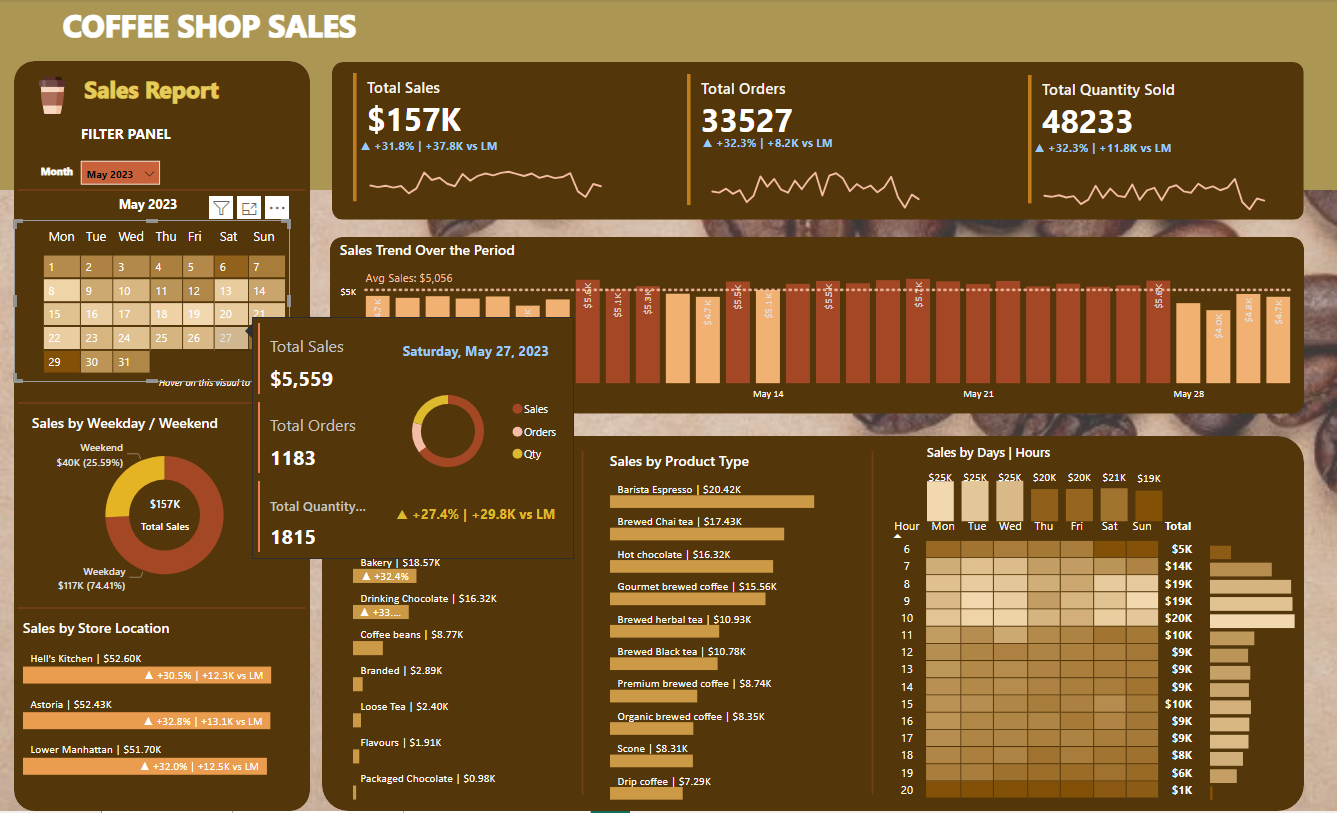

The dashboard page shown, as its layout file describes it:
{"tool":"powerbi","page":{"name":"Coffe Shop sales","canvas":[1400,850],"ordinal":0},"visuals":[{"type":"shape","box":[0,0,1399.6,199.9],"z":0},{"type":"shape","box":[14.7,64.9,309.9,785.1],"z":1000},{"type":"shape","box":[347.5,65.9,1017.5,165.4],"z":2000},{"type":"textbox","box":[60.7,0,337.1,55.5],"z":3000},{"type":"cardVisual","fields":{"Data":["Transactions.Total Sales"]},"box":[364.3,71.7,279.5,145.5],"z":4000,"group":"g1"},{"type":"cardVisual","fields":{"Data":["Transactions.Total Orders"]},"box":[713.9,72.8,286.8,148.6],"z":4000,"group":"g2"},{"type":"cardVisual","fields":{"Data":["Transactions.Total Quantity Sold"]},"box":[1070.9,74.3,268,145.5],"z":4000,"group":"g3"},{"type":"slicer","fields":{"Values":["Date Table.Month Year"]},"box":[79.6,164.3,93.2,35.6],"z":4000},{"type":"group","id":"g1","title":"Group 1","box":[364.3,71.7,279.5,156],"z":5000},{"type":"group","id":"g2","title":"Group 1","box":[713.9,72.8,286.8,152.2],"z":6000},{"type":"lineChart","fields":{"Category":["Date Table.Date.Variation.Date Hierarchy.Year","Date Table.Date.Variation.Date Hierarchy.Quarter","Date Table.Date.Variation.Date Hierarchy.Month","Date Table.Date.Variation.Date Hierarchy.Day"],"Y":["Transactions.Total Orders"]},"box":[731.1,142.3,246,82.7],"z":6000,"group":"g2"},{"type":"lineChart","fields":{"Y":["Transactions.Total Sales"],"Category":["Date Table.Date.Variation.Date Hierarchy.Year","Date Table.Date.Variation.Date Hierarchy.Quarter","Date Table.Date.Variation.Date Hierarchy.Month","Date Table.Date.Variation.Date Hierarchy.Day"]},"box":[372.4,145,271.4,82.7],"z":6000,"group":"g1"},{"type":"lineChart","fields":{"Category":["Date Table.Date.Variation.Date Hierarchy.Year","Date Table.Date.Variation.Date Hierarchy.Quarter","Date Table.Date.Variation.Date Hierarchy.Month","Date Table.Date.Variation.Date Hierarchy.Day"],"Y":["Transactions.Total Quantity Sold"]},"box":[1078.7,147.6,260.2,82.7],"z":6000,"group":"g3"},{"type":"group","id":"g3","title":"Group 1","box":[1070.9,74.3,268,156],"z":7000},{"type":"pivotTable","fields":{"Columns":["Date Table.Day Name"],"Values":["Min(Date Table.Day Number)"],"Rows":["Date Table.Week Number"]},"box":[14.7,231.3,288.9,169.6],"z":8000},{"type":"card","fields":{"Values":["Min(Date Table.Month Year)"]},"box":[98.4,199.9,113.1,34.5],"z":9000},{"type":"card","fields":{"Values":["Transactions.Foot Note"]},"box":[159.1,388.4,157,24.1],"z":10000},{"type":"shape","box":[18.8,412.4,301.5,20.9],"z":11000},{"type":"shape","box":[18.8,189.5,301.5,20.9],"z":12000},{"type":"donutChart","title":"Sales by Weekday / Weekend","fields":{"Category":["Date Table.Weekday / Weekend"],"Y":["Transactions.Total Sales"]},"box":[28.3,433.4,287.9,193.7],"z":13000},{"type":"card","fields":{"Values":["Transactions.Total Sales"]},"box":[126.7,509.8,92.1,56.5],"z":14000},{"type":"shape","box":[18.8,627,301.5,20.9],"z":15000},{"type":"clusteredBarChart","title":"Sales by Store Location","fields":{"Category":["Transactions.store_location"],"Y":["Transactions.Placeholder","Transactions.Total Sales"]},"box":[18.8,648,297.3,171.7],"z":16000},{"type":"shape","box":[345.4,249.1,1019.6,185],"z":17000},{"type":"columnChart","title":"Sales Trend Over the Period","fields":{"Category":["Transactions.transaction_date"],"Y":["Transactions.Total Sales"]},"box":[350.7,252.3,1009.1,176.9],"z":18000},{"type":"shape","box":[337.1,457.5,1028,392.5],"z":19000},{"type":"clusteredBarChart","title":"Sales by Product Category","fields":{"Y":["Transactions.Placeholder","Transactions.Total Sales"],"Category":["Transactions.product_category"]},"box":[364.3,473.2,257.5,370.6],"z":20000},{"type":"shape","box":[597.7,473.2,24.1,360.1],"z":21000},{"type":"clusteredBarChart","title":"Sales by Product Type","fields":{"Y":["Transactions.Placeholder","Transactions.Total Sales"],"Category":["Transactions.product_type"]},"box":[633.3,473.2,257.5,370.6],"z":22000},{"type":"shape","box":[901.3,473.2,24.1,360.1],"z":23000},{"type":"pivotTable","fields":{"Rows":["Transactions.Hour"],"Columns":["Date Table.Day Name"],"Values":["Transactions.Total Sales"]},"box":[925.4,538.1,336,311.9],"z":23001},{"type":"barChart","fields":{"Category":["Transactions.Hour"],"Y":["Transactions.Total Sales"]},"box":[1261.4,559,100.5,284.7],"z":23002},{"type":"columnChart","title":"Sales by Days | Hours","fields":{"Y":["Transactions.Total Sales"],"Category":["Date Table.Day Name"]},"box":[965.1,465.8,257.5,86.9],"z":23003},{"type":"textbox","box":[37.7,165.4,60.7,33.5],"z":23005},{"type":"textbox","box":[48.2,72.2,220.9,45],"z":23006},{"type":"textbox","box":[79.6,125.6,117.2,33.5],"z":23007},{"type":"image","box":[30.4,75.4,49.2,50.2],"z":23008}]}

Visuals, with their boxes in screenshot pixels (x1, y1, x2, y2), scaled from the page's 1400x850 canvas onto the 1337x813 screenshot:
shape: box(0, 0, 1336, 191)
shape: box(14, 62, 310, 812)
shape: box(332, 63, 1304, 221)
textbox: box(58, 0, 380, 53)
cardVisual - Transactions.Total Sales: box(348, 69, 615, 208)
cardVisual - Transactions.Total Orders: box(682, 70, 956, 212)
cardVisual - Transactions.Total Quantity Sold: box(1023, 71, 1279, 210)
slicer - Date Table.Month Year: box(76, 157, 165, 191)
"Group 1" group: box(348, 69, 615, 218)
"Group 1" group: box(682, 70, 956, 215)
lineChart - Date Table.Date.Variation.Date Hierarchy.Year x Date Table.Date.Variation.Date Hierarchy.Quarter: box(698, 136, 933, 215)
lineChart - Transactions.Total Sales x Date Table.Date.Variation.Date Hierarchy.Year: box(356, 139, 615, 218)
lineChart - Date Table.Date.Variation.Date Hierarchy.Year x Date Table.Date.Variation.Date Hierarchy.Quarter: box(1030, 141, 1279, 220)
"Group 1" group: box(1023, 71, 1279, 220)
pivotTable - Date Table.Day Name x Min(Date Table.Day Number): box(14, 221, 290, 383)
card - Min(Date Table.Month Year): box(94, 191, 202, 224)
card - Transactions.Foot Note: box(152, 371, 302, 395)
shape: box(18, 394, 306, 414)
shape: box(18, 181, 306, 201)
"Sales by Weekday / Weekend" donutChart: box(27, 415, 302, 600)
card - Transactions.Total Sales: box(121, 488, 209, 542)
shape: box(18, 600, 306, 620)
"Sales by Store Location" clusteredBarChart: box(18, 620, 302, 784)
shape: box(330, 238, 1304, 415)
"Sales Trend Over the Period" columnChart: box(335, 241, 1299, 411)
shape: box(322, 438, 1304, 812)
"Sales by Product Category" clusteredBarChart: box(348, 453, 594, 807)
shape: box(571, 453, 594, 797)
"Sales by Product Type" clusteredBarChart: box(605, 453, 851, 807)
shape: box(861, 453, 884, 797)
pivotTable - Transactions.Hour x Date Table.Day Name: box(884, 515, 1205, 812)
barChart - Transactions.Hour x Transactions.Total Sales: box(1205, 535, 1301, 807)
"Sales by Days | Hours" columnChart: box(922, 446, 1168, 529)
textbox: box(36, 158, 94, 190)
textbox: box(46, 69, 257, 112)
textbox: box(76, 120, 188, 152)
image: box(29, 72, 76, 120)
